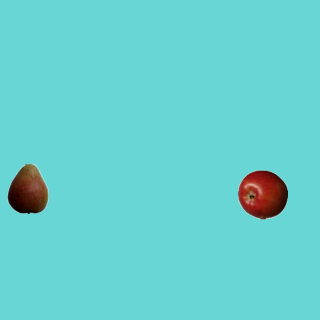Apple Braeburn: (237, 169, 287, 219)
Pear Forelle: (2, 163, 52, 213)
